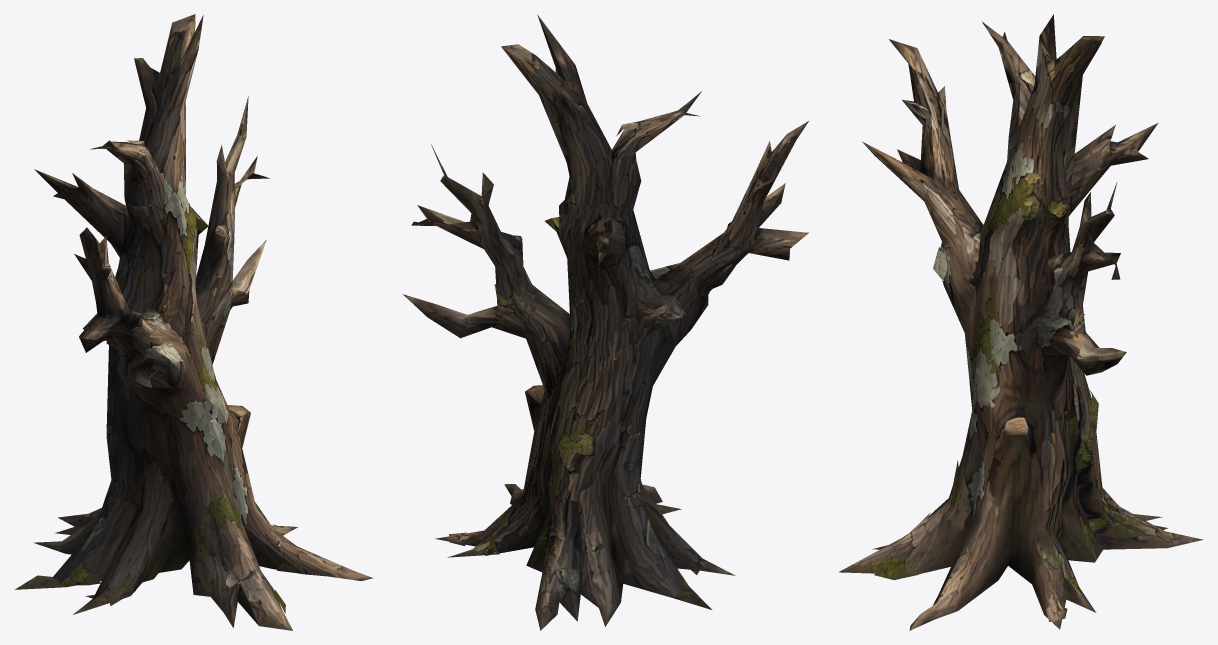
File: act1_kit_v1_dead_tree.glb
The picture shows the model from 3 angles, left to right: view 1: azimuth 30°, elevation 25°; view 2: azimuth 150°, elevation 25°; view 3: azimuth 270°, elevation 25°; orthographic projection. The views are drawn at different scales.
Parts seen in each view (by area): view 1: A04_3_dead_tree; view 2: A04_3_dead_tree; view 3: A04_3_dead_tree.
Boxes of the visible parts, x1,y1,x2,y2 form: A04_3_dead_tree: (14,14,372,630); A04_3_dead_tree: (403,14,809,630); A04_3_dead_tree: (839,14,1203,630).
Size of the model in its own units: 0.5717 by 0.9991 by 0.5854.
1 material, 1 textured.
